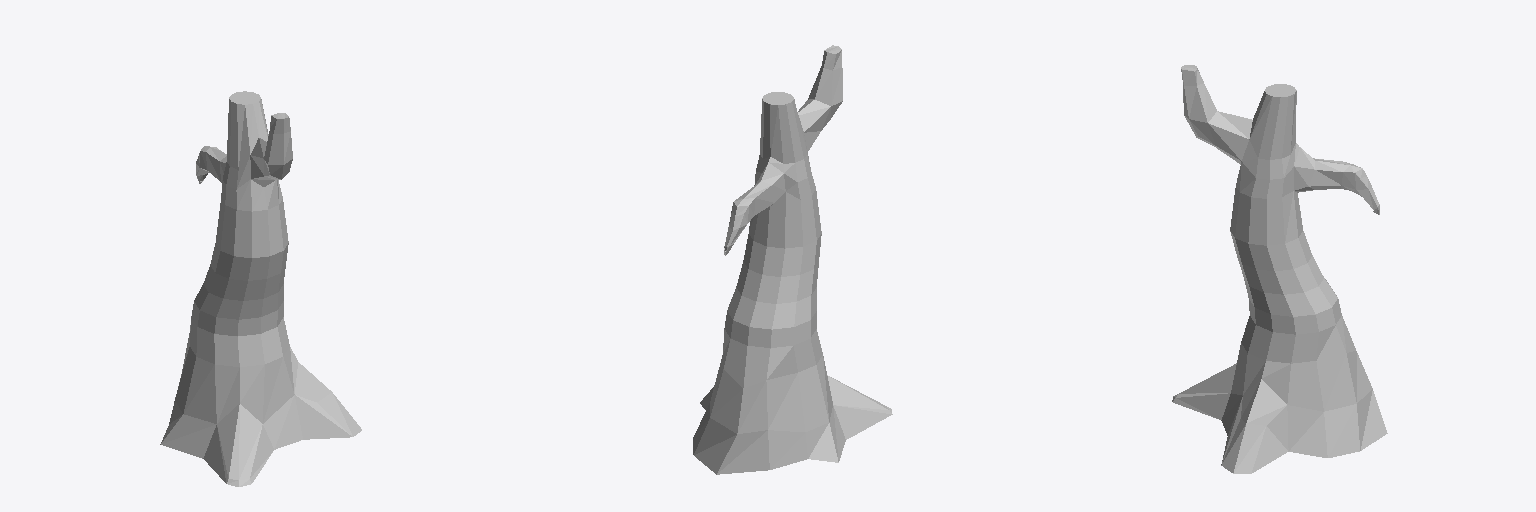
Rendered from Olive_Tree01.obj.
3 renders of one model, left to right at view 1: azimuth 30°, elevation 25°; view 2: azimuth 150°, elevation 25°; view 3: azimuth 270°, elevation 25°, orthographic.
Parts seen in each view (by area): view 1: pCylinder7; view 2: pCylinder7; view 3: pCylinder7.
Boxes of the visible parts, x1,y1,x2,y2 form: pCylinder7: [160, 91, 361, 486]; pCylinder7: [693, 45, 892, 474]; pCylinder7: [1172, 65, 1387, 473].
Size of the model in its own units: 10.76 by 22.08 by 12.07.